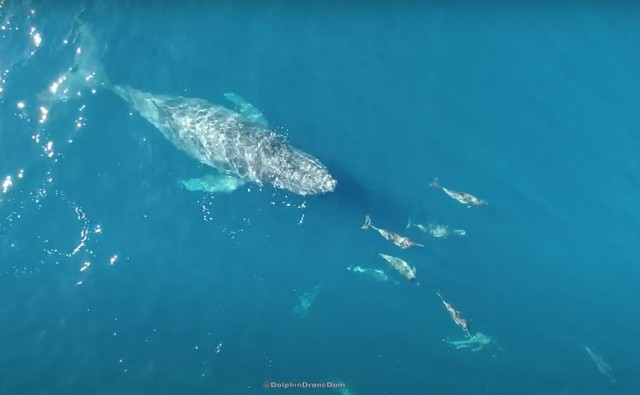whale: (29, 20, 349, 214)
